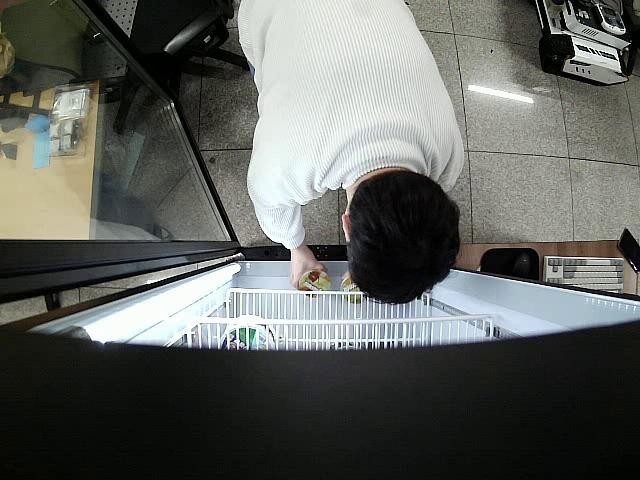04_chapagetti_S: (298, 270, 331, 300)
